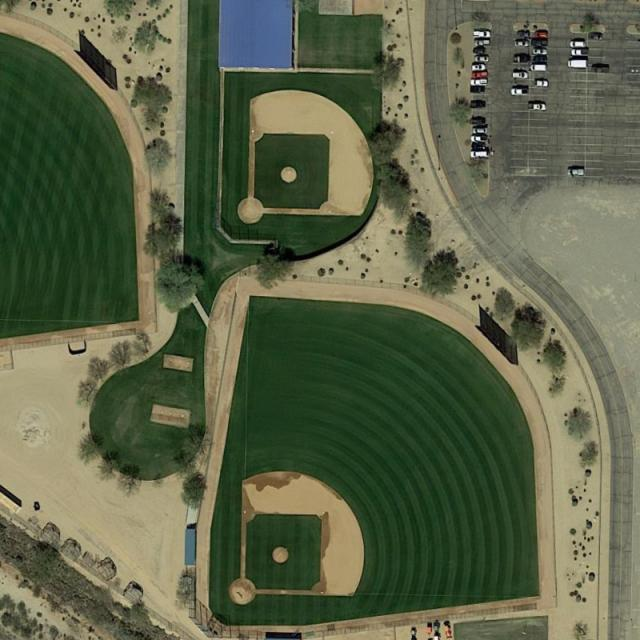vehicle: (570, 49, 591, 58), (566, 61, 588, 69), (530, 64, 548, 73), (471, 126, 489, 135), (470, 142, 488, 151), (473, 30, 493, 38), (472, 70, 489, 79), (592, 66, 611, 74), (527, 103, 548, 110), (566, 169, 586, 176), (470, 151, 490, 158), (470, 118, 487, 126), (474, 38, 491, 46), (532, 38, 549, 46), (511, 72, 530, 79), (514, 55, 530, 63), (470, 79, 488, 86), (471, 64, 486, 72), (475, 55, 490, 63), (511, 89, 530, 95), (470, 86, 486, 93), (518, 31, 531, 39), (570, 41, 587, 47), (533, 57, 550, 63), (470, 102, 487, 108), (532, 49, 549, 55), (590, 34, 604, 41), (534, 81, 550, 87), (534, 32, 550, 38), (470, 137, 489, 142), (514, 40, 529, 46), (474, 48, 487, 54)
